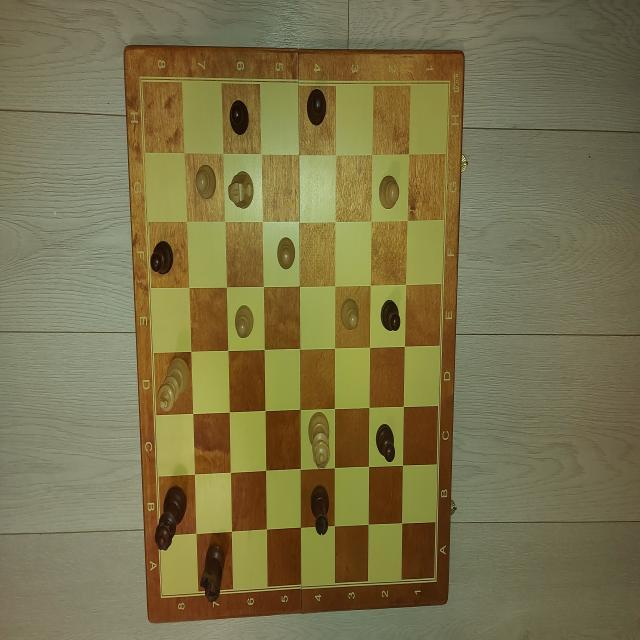chess-table-corners: (128, 56, 152, 101), (436, 64, 460, 108), (423, 557, 445, 596), (152, 575, 172, 610)
